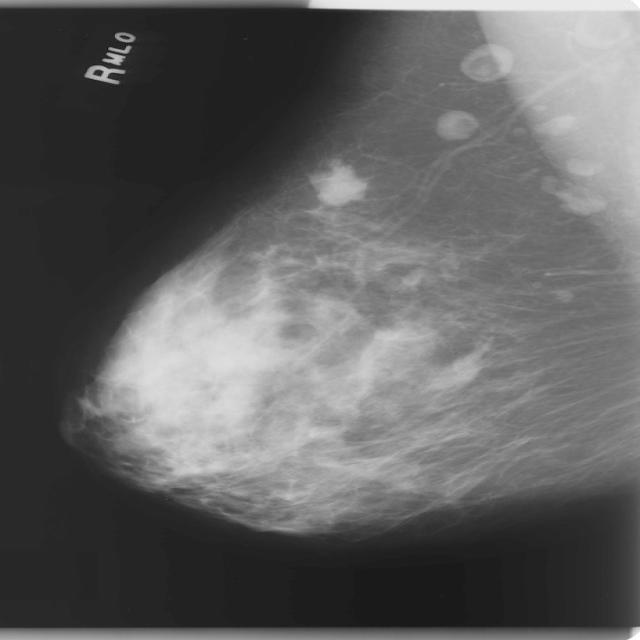tumour: (308, 158, 367, 205)
